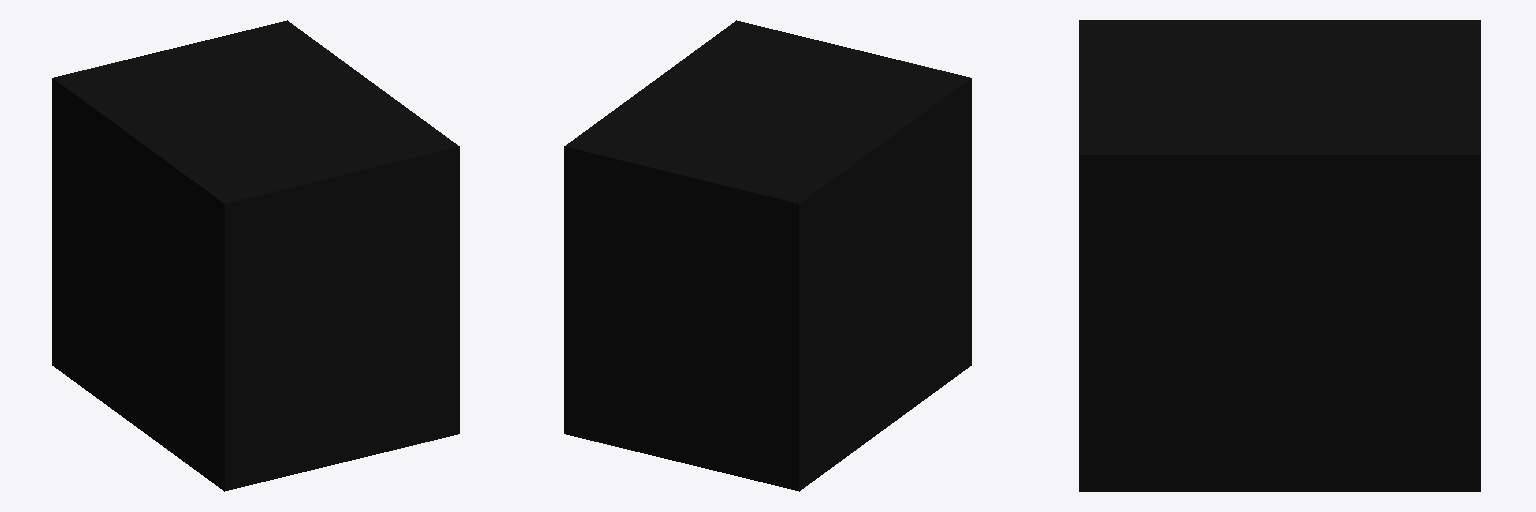
robot.urdf — krk_speaker:
<?xml version="1.0"?>
<robot name="krk_speaker">
 <link name="base_link">
   <inertial>
     <mass value="10.3"/>
     <origin xyz="0 0 0.127" rpy="0 0 0"/>
     <inertia ixx="0.2" ixy="0.0" ixz="0.0" 
              iyy="0.18" iyz="0.0" 
              izz="0.15"/>
   </inertial>

   <visual>
     <origin xyz="0 0 0" rpy="0 0 0"/>
     <geometry>
       <box size="0.224 0.284 0.262"/>
     </geometry>
     <material name="black">
       <color rgba="0.1 0.1 0.1 1"/>
     </material>
   </visual>

   <collision>
     <origin xyz="0 0 0" rpy="0 0 0"/>
     <geometry>
       <box size="0.224 0.284 0.262"/>
     </geometry>
     <contact>
       <lateral_friction value="0.3"/>
       <rolling_friction value="0.001"/>
       <restitution value="0.2"/>
       <stiffness value="20000.0"/>
       <damping value="100.0"/>
     </contact>
   </collision>
 </link>

 <link name="woofer">
   <inertial>
     <mass value="0.5"/>
     <origin xyz="0 0 0" rpy="0 0 0"/>
     <inertia ixx="0.001" ixy="0.0" ixz="0.0" 
              iyy="0.001" iyz="0.0" 
              izz="0.001"/>
   </inertial>

   <visual>
     <origin xyz="0 0 0" rpy="0 0 0"/>
     <geometry>
       <cylinder radius="0.0889" length="0.01"/>
     </geometry>
     <material name="yellow">
       <color rgba="0.9 0.9 0 1"/>
     </material>
   </visual>
   
   <collision>
     <origin xyz="0 0 0" rpy="0 0 0"/>
     <geometry>
       <cylinder radius="0.0889" length="0.01"/>
     </geometry>
   </collision>
 </link>

 <joint name="woofer_joint" type="fixed">
   <parent link="base_link"/>
   <child link="woofer"/>
   <origin xyz="0 0.05 0"/>
   <dynamics damping="0.5" friction="0.5"/>
 </joint>
</robot>

--- Render facts (derived) ---
3 views of the same robot in one strip: view 1: azimuth 30°, elevation 25°; view 2: azimuth 150°, elevation 25°; view 3: azimuth 270°, elevation 25° (orthographic).
Model krk_speaker with 2 links and 1 joints (1 fixed), rooted at base_link, posed all joints at 0.
Links seen in each view (by area): view 1: base_link; view 2: base_link; view 3: base_link.
Link boxes in pixels (left/top/right/bottom): base_link: left=52, top=20, right=459, bottom=491; base_link: left=564, top=20, right=971, bottom=491; base_link: left=1079, top=20, right=1480, bottom=491.
Bounding box of the posed robot: 0.224 × 0.284 × 0.262 m (x, y, z).
Geometry: primitives only (box / cylinder / sphere), no mesh files.